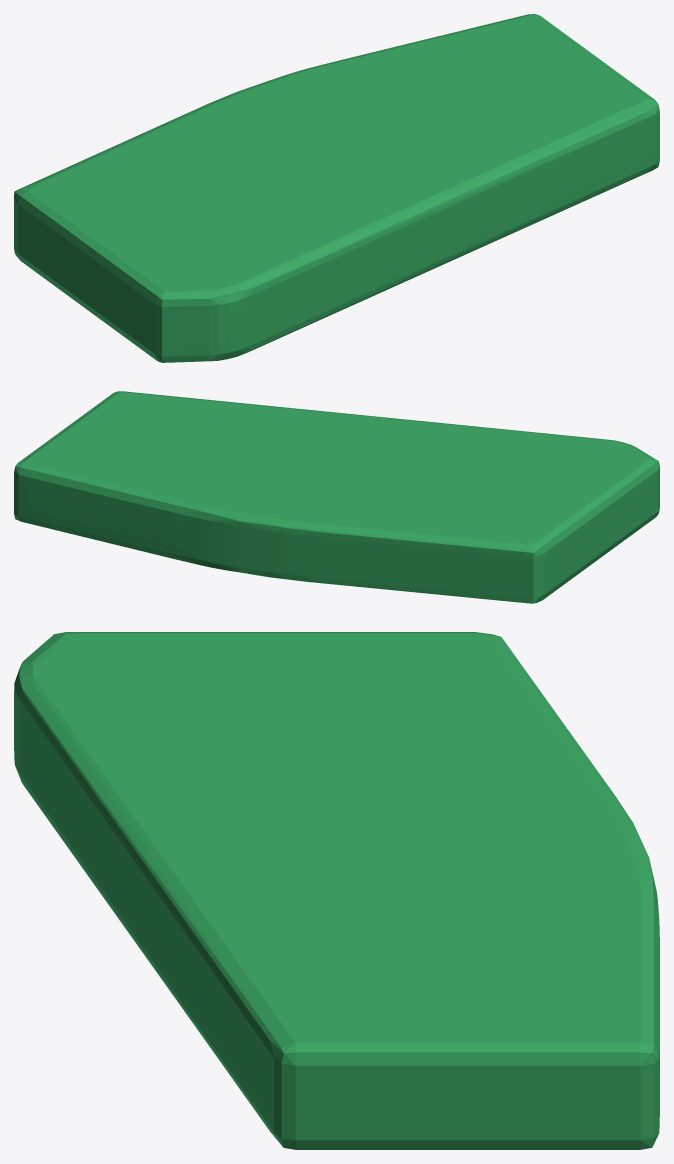
Rendered from right_ankle_link_part_10.obj.
The picture shows the model from 3 angles, top to bottom: view 1: azimuth 30°, elevation 25°; view 2: azimuth 150°, elevation 25°; view 3: azimuth 270°, elevation 25°; orthographic projection. The views are drawn at different scales.
Bounding box in the file's own units: 0.0764 × 0.00887 × 0.0492.
